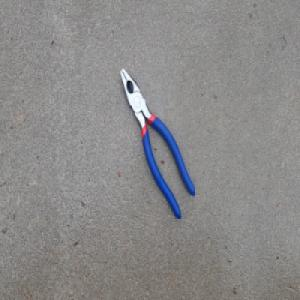Pliers: (118, 69, 195, 222)
